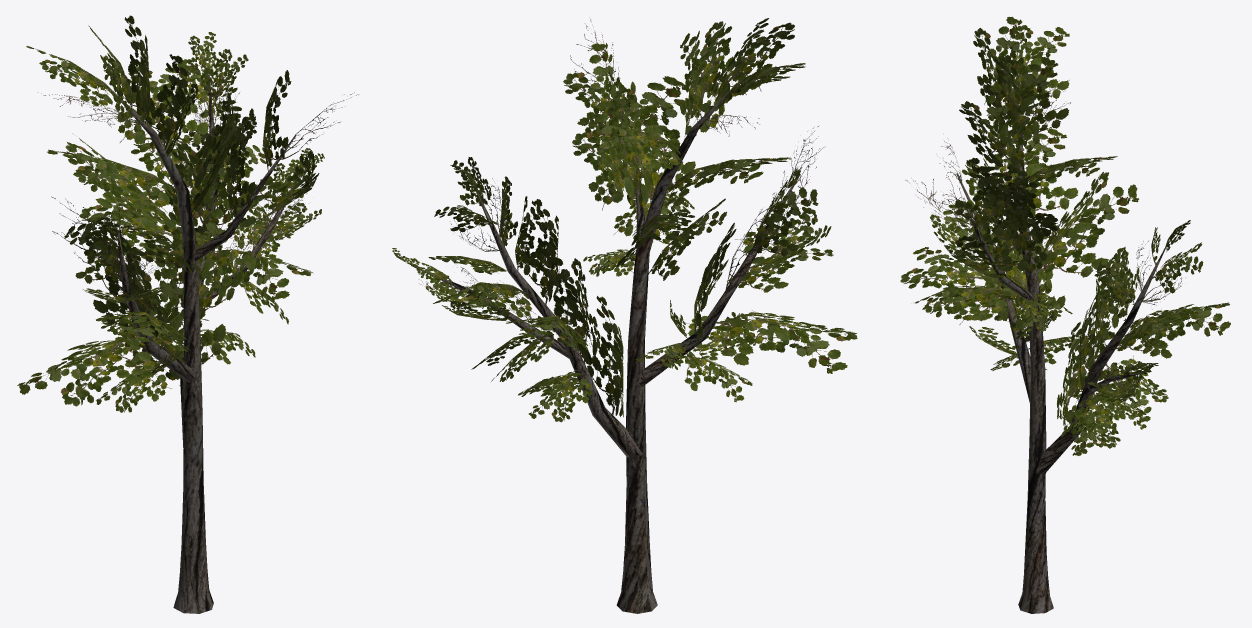
File: laubbaum.fbx
3 renders of one model, left to right at view 1: azimuth 30°, elevation 25°; view 2: azimuth 150°, elevation 25°; view 3: azimuth 270°, elevation 25°, orthographic. The views are drawn at different scales.
Parts seen in each view (by area): view 1: Circle.009; view 2: Circle.009; view 3: Circle.009.
Boxes of the visible parts, <box> form: Circle.009: <box>17,15,358,613</box>; Circle.009: <box>392,18,857,613</box>; Circle.009: <box>900,17,1230,613</box>.
Bounding box in the file's own units: 626 × 955 × 551.
